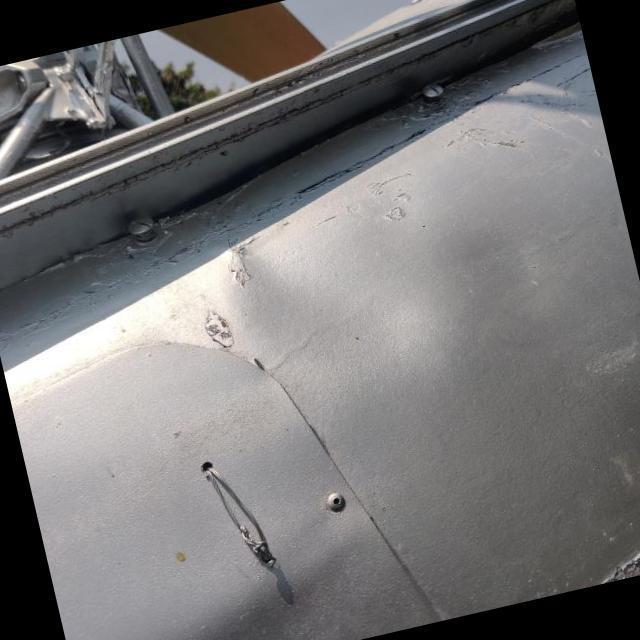Dent: (181, 180, 448, 440)
